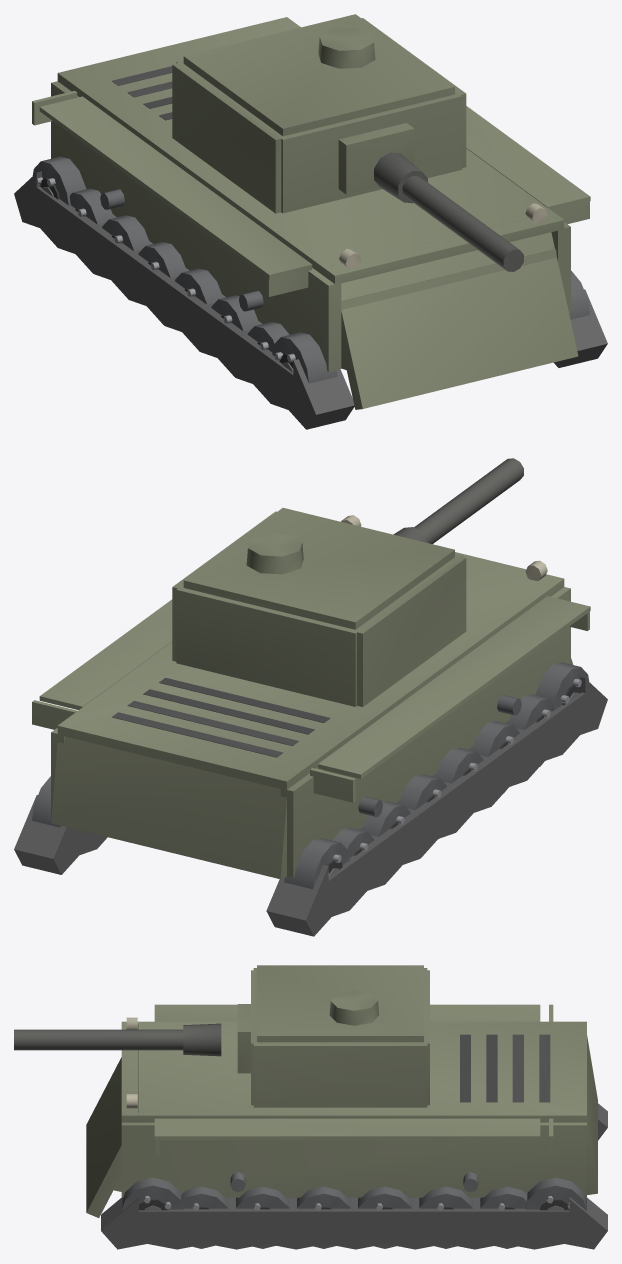
3 views of the same model, one above another, from view 1: azimuth 30°, elevation 25°; view 2: azimuth 150°, elevation 25°; view 3: azimuth 270°, elevation 25° (orthographic). The views are drawn at different scales.
Visible parts, largest first — view 1: hullSide, hullTop, glacis, turretRoof, tracks, turretFront, turretSide, barrel, mantlet, lowerPlate, wheel6, wheel7 (+7 smaller); view 2: hullTop, hullSide, hullRear, tracks, turretRoof, turretRear, turretSide, barrel, wheel7, wheel6, wheel3, wheel4 (+5 smaller); view 3: hullSide, hullTop, tracks, turretRoof, turretSide, barrel, glacis, wheel15, wheel14, hullRear, wheel11, wheel9 (+7 smaller).
Part boxes in pixels (x1,y1,x2,y2): hullSide: (32, 81, 590, 371); hullTop: (57, 17, 564, 283); glacis: (331, 218, 578, 409); turretRoof: (183, 14, 454, 136); tracks: (14, 171, 607, 429); turretFront: (276, 91, 462, 213); turretSide: (172, 18, 466, 213); barrel: (374, 152, 523, 271); mantlet: (338, 123, 414, 194); lowerPlate: (341, 249, 556, 370); wheel6: (272, 332, 337, 383); wheel7: (32, 156, 86, 205); hullTop: (57, 552, 564, 789); hullSide: (32, 515, 590, 877); hullRear: (51, 736, 288, 879); tracks: (14, 677, 607, 936); turretRoof: (183, 508, 454, 629); turretRear: (176, 585, 361, 706); turretSide: (172, 511, 466, 706); barrel: (393, 458, 523, 543); wheel7: (284, 838, 349, 889); wheel6: (535, 662, 589, 711); wheel3: (432, 747, 483, 783); wheel4: (469, 721, 519, 792); hullSide: (121, 1004, 586, 1197); hullTop: (121, 1021, 586, 1122); tracks: (101, 1103, 607, 1249); turretRoof: (257, 965, 423, 1042); turretSide: (253, 968, 427, 1107); barrel: (14, 1023, 221, 1056); glacis: (86, 1024, 139, 1217); wheel15: (525, 1177, 586, 1210); wheel14: (122, 1177, 183, 1210); hullRear: (583, 1035, 597, 1194); wheel11: (297, 1186, 350, 1248); wheel9: (419, 1186, 472, 1248).
Size of the model in its own units: 4.48 by 3.27 by 8.55.
